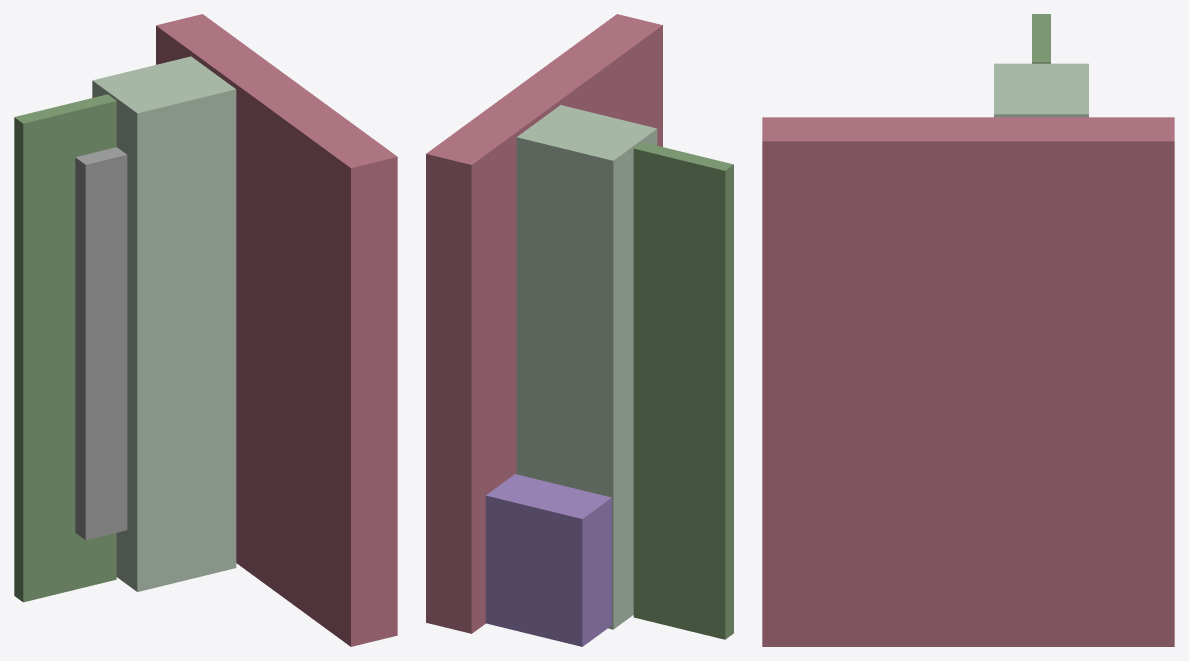
3 renders of one model, left to right at view 1: azimuth 30°, elevation 25°; view 2: azimuth 150°, elevation 25°; view 3: azimuth 270°, elevation 25°, orthographic. The views are drawn at different scales.
Parts seen in each view (by area): view 1: world; view 2: world; view 3: world.
Part boxes in pixels (x1,y1,x2,y2): world: (14,14,397,646); world: (426,14,733,646); world: (762,14,1174,646).
Size of the model in its own units: 4.75 by 8.8 by 6.5.
